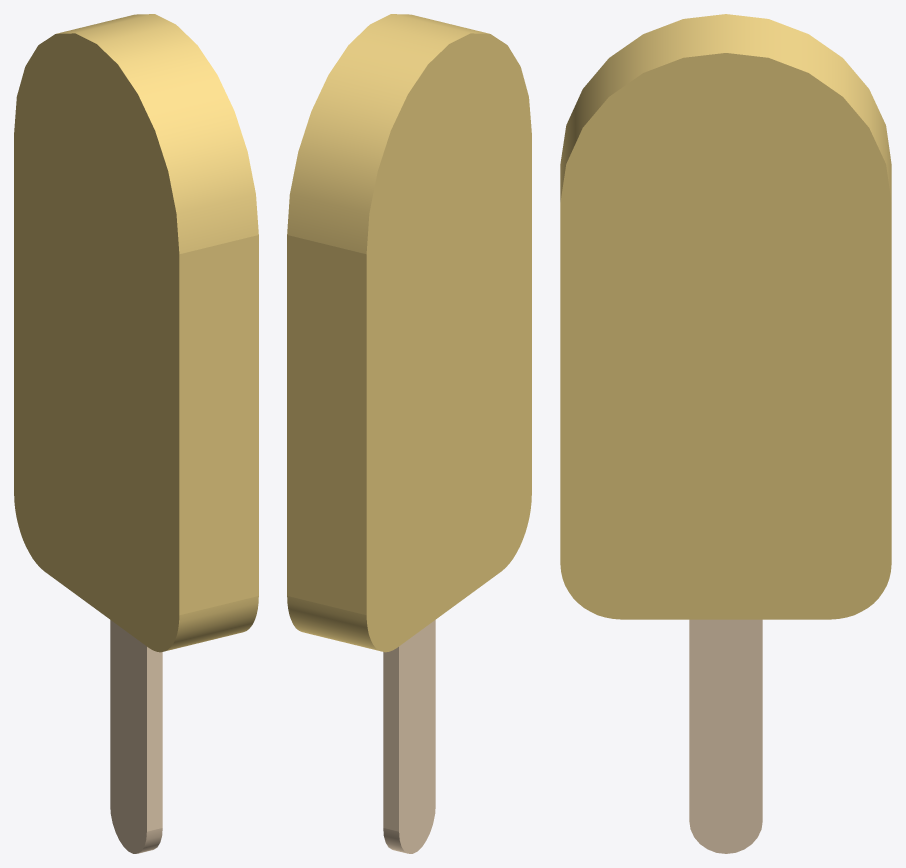
The model's file is popsicle.glb.
3 renders of one model, left to right at view 1: azimuth 30°, elevation 25°; view 2: azimuth 150°, elevation 25°; view 3: azimuth 270°, elevation 25°, orthographic.
Parts seen in each view (by area): view 1: popsicle; view 2: popsicle; view 3: popsicle.
Part boxes in pixels (x1,y1,x2,y2): popsicle: (14,14,258,853); popsicle: (287,14,531,853); popsicle: (560,14,891,853).
Size of the model in its own units: 0.05 by 0.49 by 0.1801.
